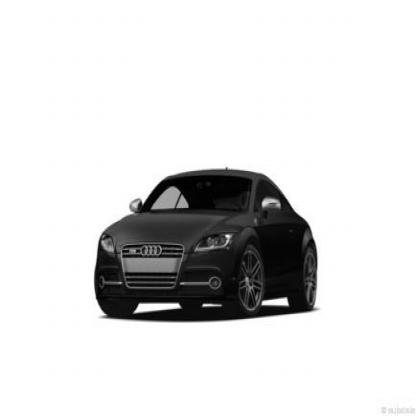Vehicle: (94, 170, 319, 319)
